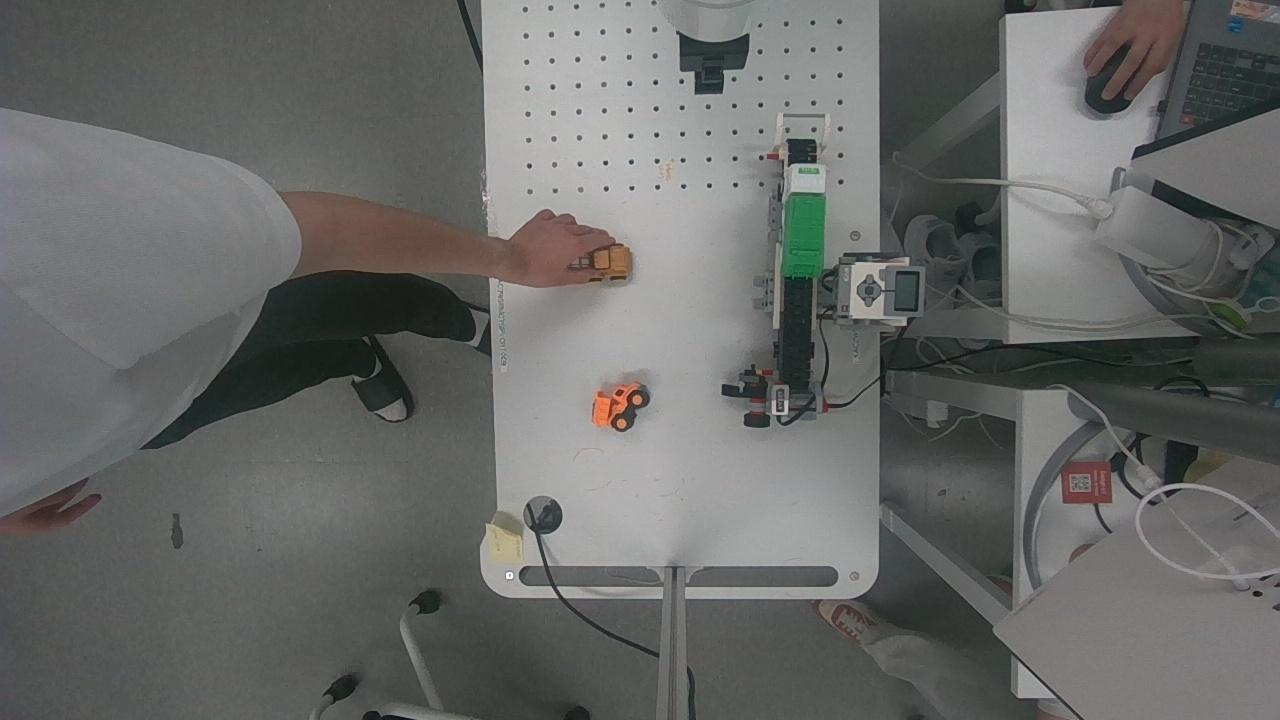green_car: (777, 159, 831, 284)
orange_car: (592, 382, 651, 438)
yellow_car: (577, 236, 634, 289)
